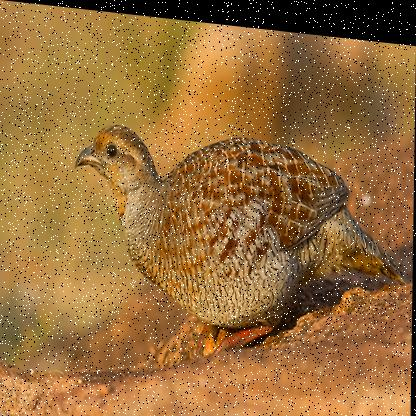Burung: (74, 116, 409, 372)
